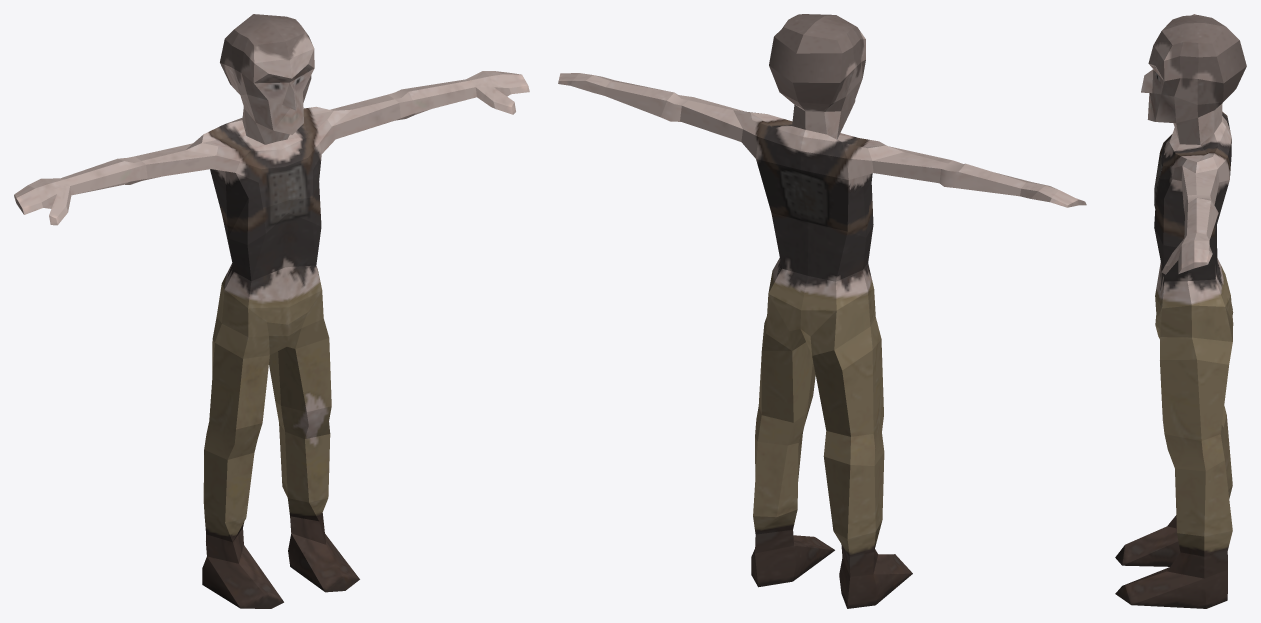
Rendered from SK_Anarchist (1).glb.
3 renders of one model, left to right at view 1: azimuth 30°, elevation 25°; view 2: azimuth 150°, elevation 25°; view 3: azimuth 270°, elevation 25°, orthographic. The views are drawn at different scales.
Parts seen in each view (by area): view 1: SK_Anarchist; view 2: SK_Anarchist; view 3: SK_Anarchist.
Boxes of the visible parts, bbox=[...] form: SK_Anarchist: bbox=[14, 14, 529, 608]; SK_Anarchist: bbox=[558, 14, 1086, 608]; SK_Anarchist: bbox=[1115, 14, 1246, 608].
Size of the model in its own units: 41.96 by 43.83 by 9.41.
Materials: 1 (1 with a texture image).
